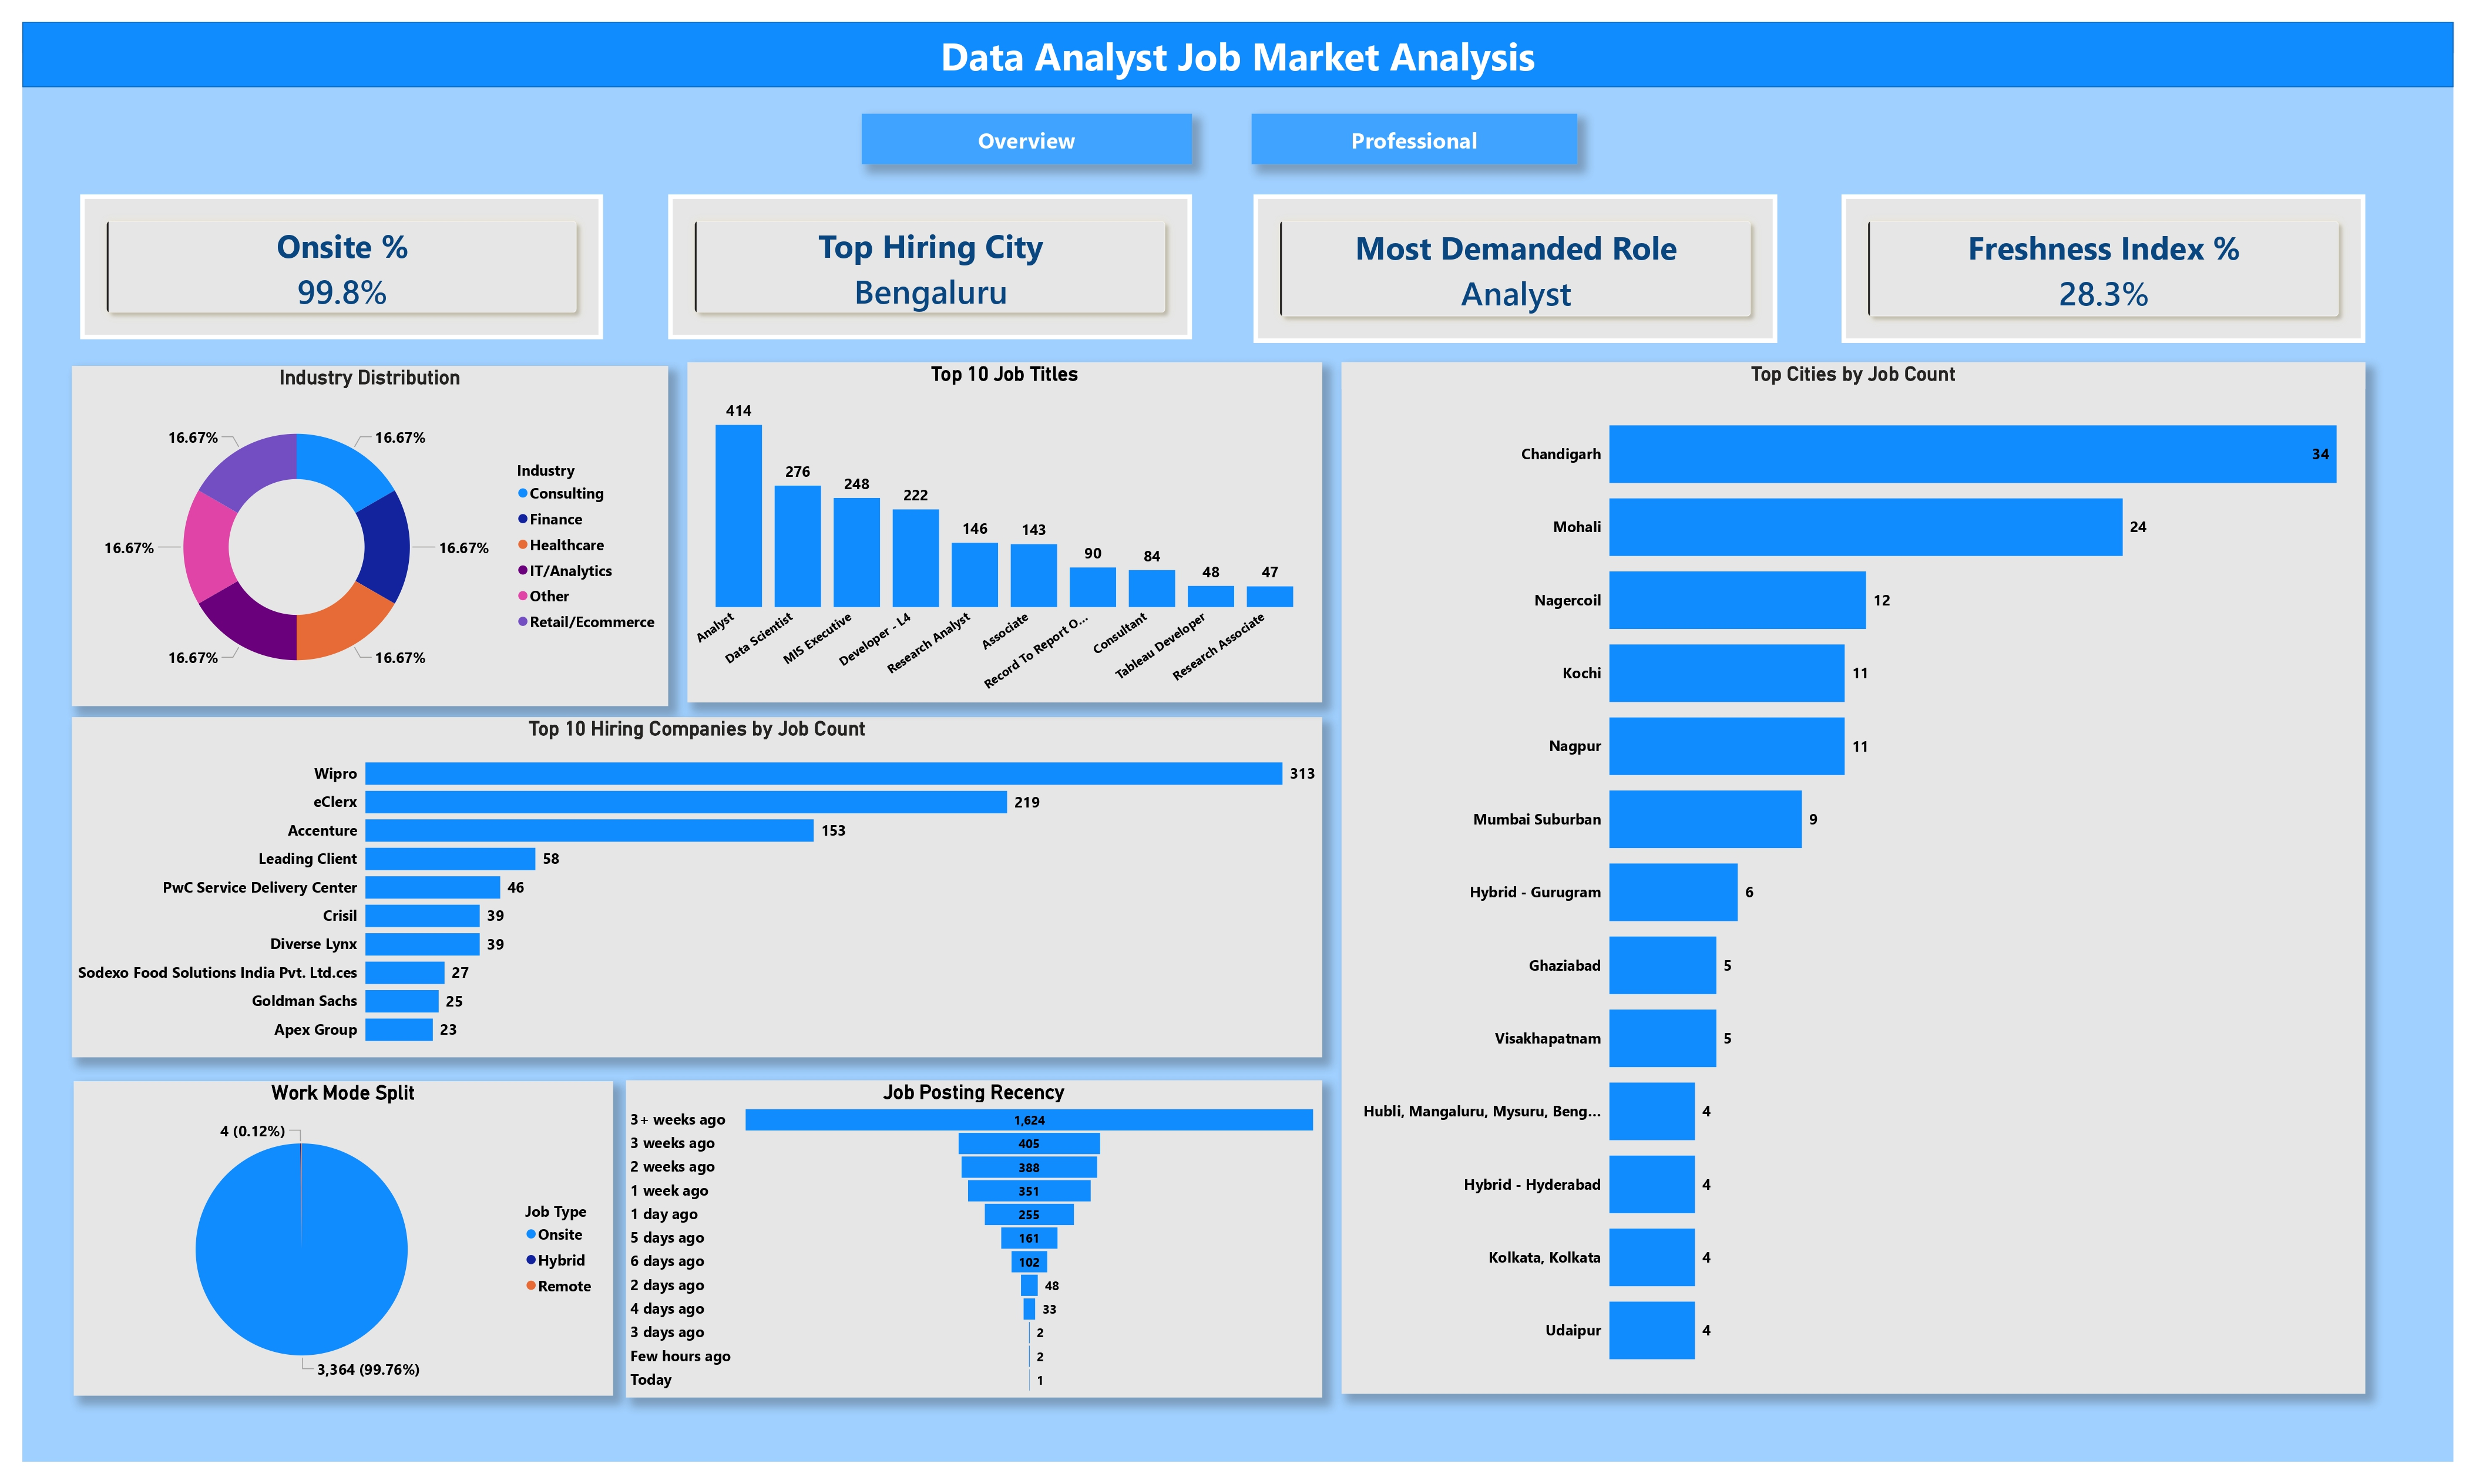

This screenshot's page, from the dashboard's own definition file:
{"tool":"powerbi","page":{"name":"Overview","canvas":[2650,1570],"ordinal":0},"visuals":[{"type":"cardVisual","fields":{"Data":["_Measures.Onsite %"]},"box":[62.5,187.5,570.8,158.3],"z":0},{"type":"cardVisual","fields":{"Data":["_Measures.Top Hiring City"]},"box":[704.2,187.5,570.8,158.3],"z":1000},{"type":"cardVisual","fields":{"Data":["_Measures.Most Demanded Role"]},"box":[1341.7,187.5,570.8,162.5],"z":2000},{"type":"cardVisual","fields":{"Data":["_Measures.Freshness Index %"]},"box":[1983.3,187.5,570.8,162.5],"z":3000},{"type":"barChart","title":"Top Cities by Job Count","fields":{"Category":["Table.Location"],"Y":["_Measures.Top 10 Title Jobs"]},"box":[1437.5,370.8,1116.7,1125],"z":4000},{"type":"donutChart","title":"Industry Distribution","fields":{"Category":["Table.Industry"],"Y":["_Measures.Industry Count"]},"box":[54.2,375,650,370.8],"z":5000},{"type":"barChart","title":"Top 10 Hiring Companies by Job Count","fields":{"Category":["Table.Company"],"Y":["_Measures.Job Count"]},"box":[54.2,758.3,1362.5,370.8],"z":6000},{"type":"columnChart","title":"Top 10 Job Titles","fields":{"Category":["Table.Job Title"],"Y":["_Measures.Job Count"]},"box":[725,370.8,691.7,370.8],"z":7000},{"type":"pieChart","title":"Work Mode Split","fields":{"Category":["Table.Job Type"],"Y":["_Measures.Job Count"]},"box":[56,1155,588,343],"z":8000},{"type":"funnel","title":"Job Posting Recency","fields":{"Category":["Table.Posted"],"Y":["_Measures.Job Count"]},"box":[658.3,1154.2,758.3,345.8],"z":9000},{"type":"actionButton","box":[915,100,360,55],"z":10000},{"type":"actionButton","box":[1340,100,355,55],"z":11000},{"type":"shape","box":[0,0,2650,70.8],"z":12000}]}

Visuals, with their boxes in screenshot pixels (x1, y1, x2, y2):
cardVisual - _Measures.Onsite %: x1=70 y1=186 x2=596 y2=331
cardVisual - _Measures.Top Hiring City: x1=662 y1=186 x2=1188 y2=331
cardVisual - _Measures.Most Demanded Role: x1=1249 y1=186 x2=1775 y2=335
cardVisual - _Measures.Freshness Index %: x1=1840 y1=186 x2=2366 y2=335
"Top Cities by Job Count" barChart: x1=1338 y1=355 x2=2366 y2=1391
"Industry Distribution" donutChart: x1=63 y1=358 x2=662 y2=700
"Top 10 Hiring Companies by Job Count" barChart: x1=63 y1=711 x2=1318 y2=1053
"Top 10 Job Titles" columnChart: x1=681 y1=355 x2=1318 y2=696
"Work Mode Split" pieChart: x1=65 y1=1077 x2=606 y2=1393
"Job Posting Recency" funnel: x1=620 y1=1076 x2=1318 y2=1395
actionButton: x1=856 y1=105 x2=1188 y2=156
actionButton: x1=1248 y1=105 x2=1575 y2=156
shape: x1=13 y1=13 x2=2455 y2=78
